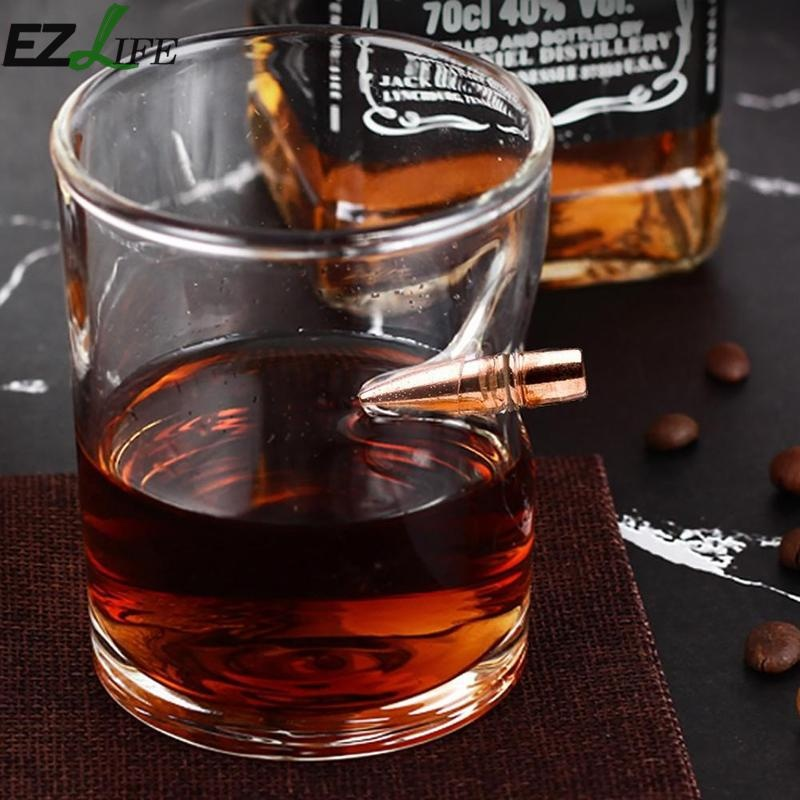whiskey: (59, 28, 547, 743)
